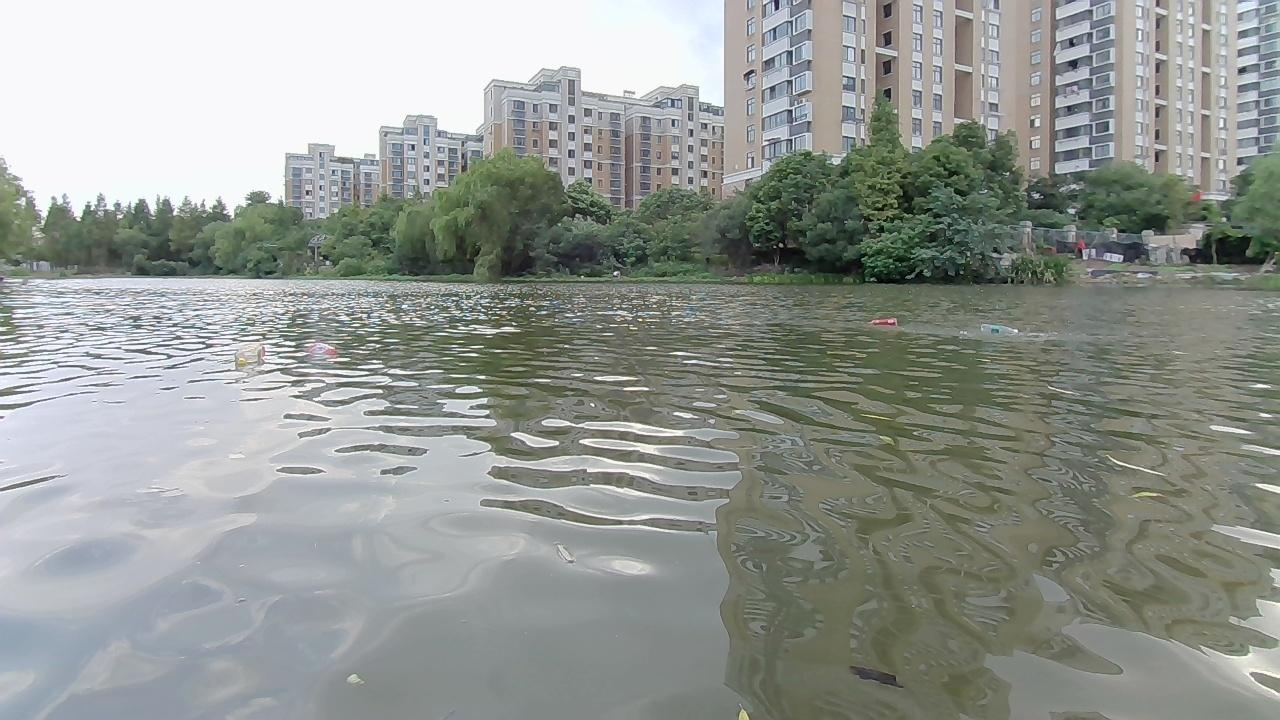bottle: (299, 337, 338, 360), (228, 344, 263, 369), (980, 322, 1021, 337), (871, 315, 901, 327)
